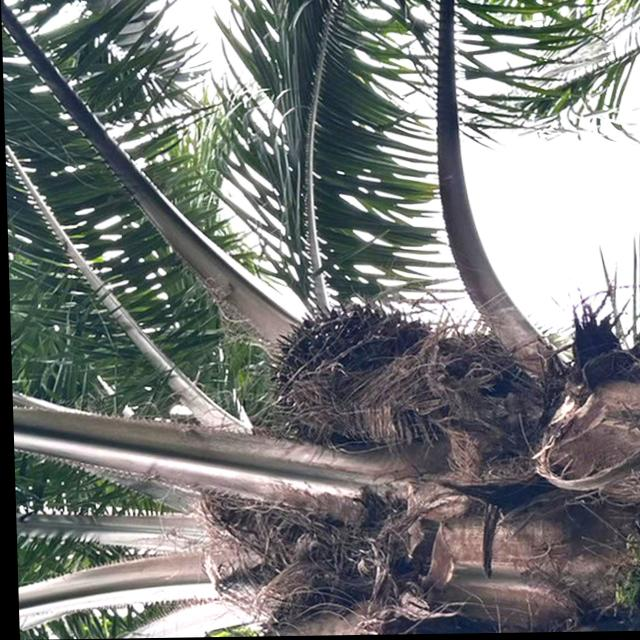almost: (265, 297, 448, 430)
